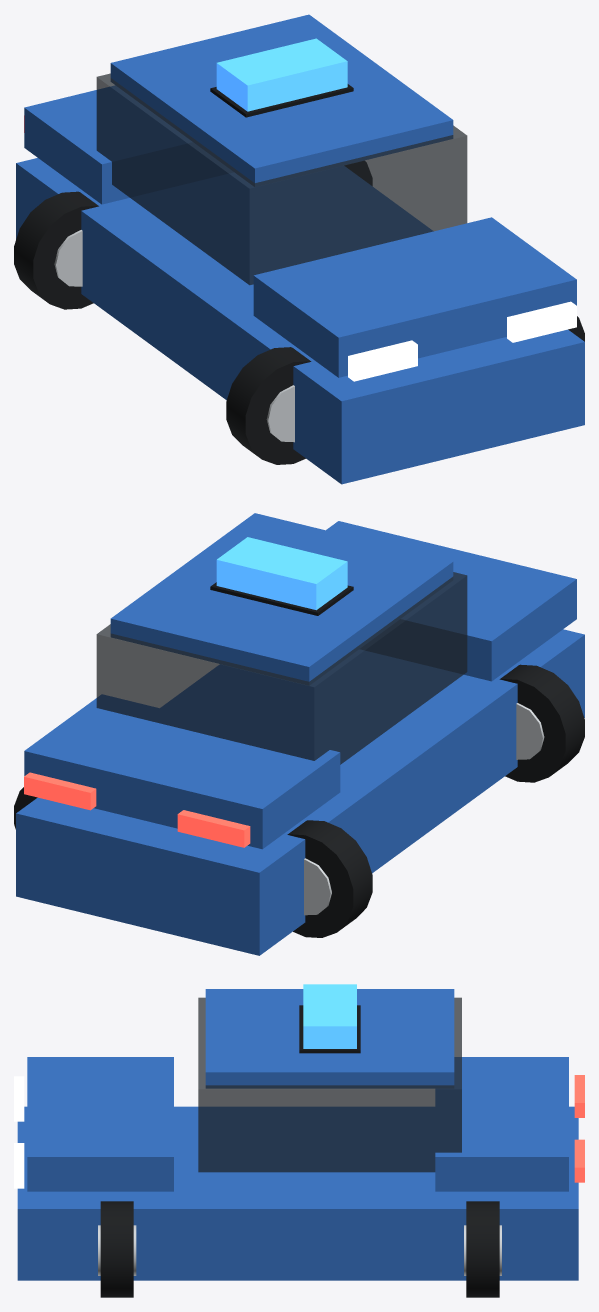
Rendered from car-request-pending.glb.
The picture shows the model from 3 angles, top to bottom: view 1: azimuth 30°, elevation 25°; view 2: azimuth 150°, elevation 25°; view 3: azimuth 270°, elevation 25°; orthographic projection. The views are drawn at different scales.
Parts seen in each view (by area): view 1: car-request-pending; view 2: car-request-pending; view 3: car-request-pending.
Part boxes in pixels (box(x1,y1,x2,y2)): car-request-pending: box(14, 14, 584, 484); car-request-pending: box(14, 513, 584, 955); car-request-pending: box(14, 984, 584, 1297).
Bounding box in the file's own units: 2.65 × 2.05 × 4.48.
